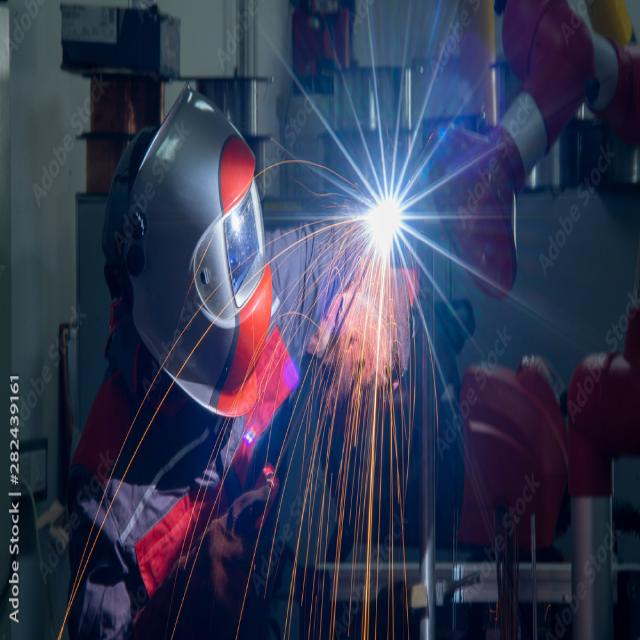welding: (368, 193, 400, 248)
